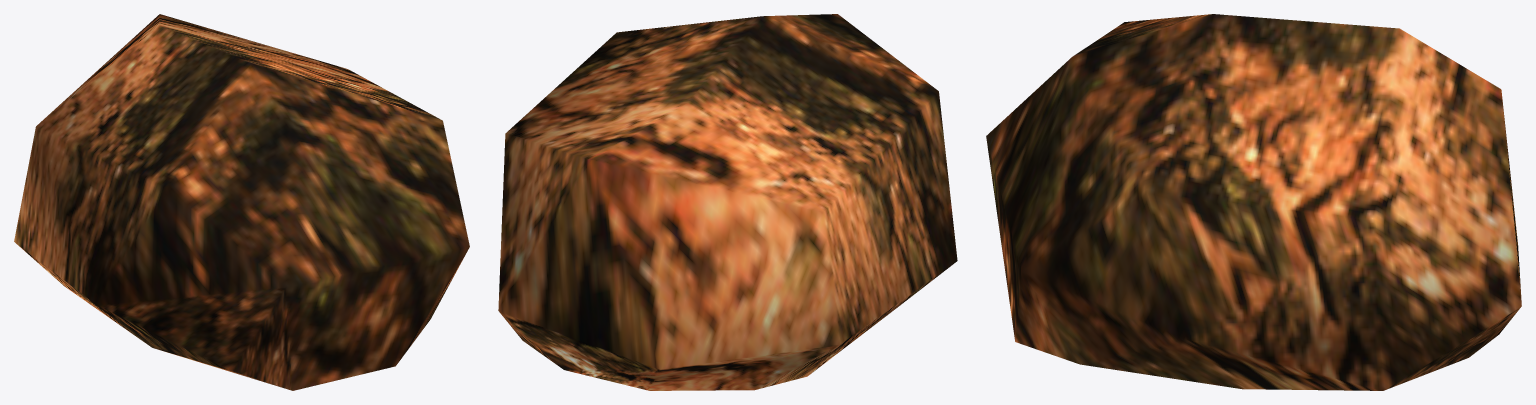
Rendered from stone12_tex3.fbx.
3 views of the same model, side by side, from view 1: azimuth 30°, elevation 25°; view 2: azimuth 150°, elevation 25°; view 3: azimuth 270°, elevation 25° (orthographic). The views are drawn at different scales.
Visible parts, largest first — view 1: stone12_tex3Object; view 2: stone12_tex3Object; view 3: stone12_tex3Object.
Part boxes in pixels (box(x1,y1,x2,y2)): stone12_tex3Object: box(14, 14, 469, 390); stone12_tex3Object: box(498, 14, 957, 390); stone12_tex3Object: box(986, 14, 1521, 390).
Size of the model in its own units: 0.928 by 0.6586 by 1.08.
1 material, 1 textured.
